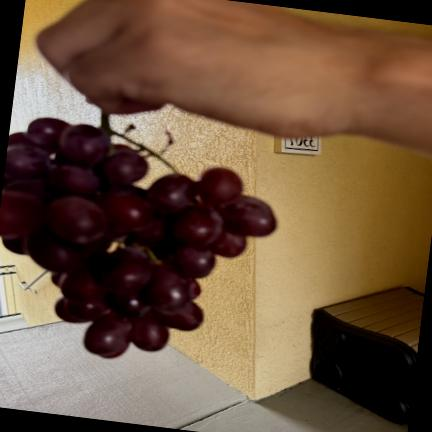grape_cluster: (0, 113, 276, 358)
